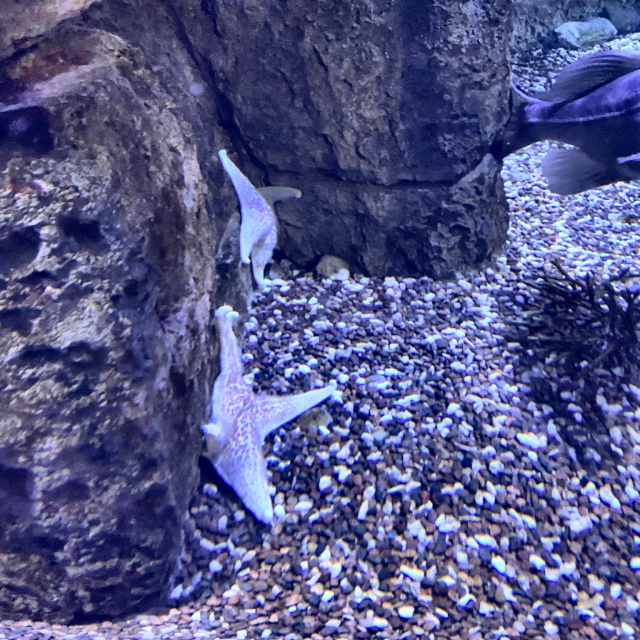fish: (505, 45, 639, 172)
starfish: (197, 310, 320, 519), (220, 147, 300, 290)
